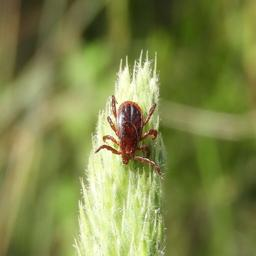Rhipicephalus sanguineus: (94, 94, 159, 176)
